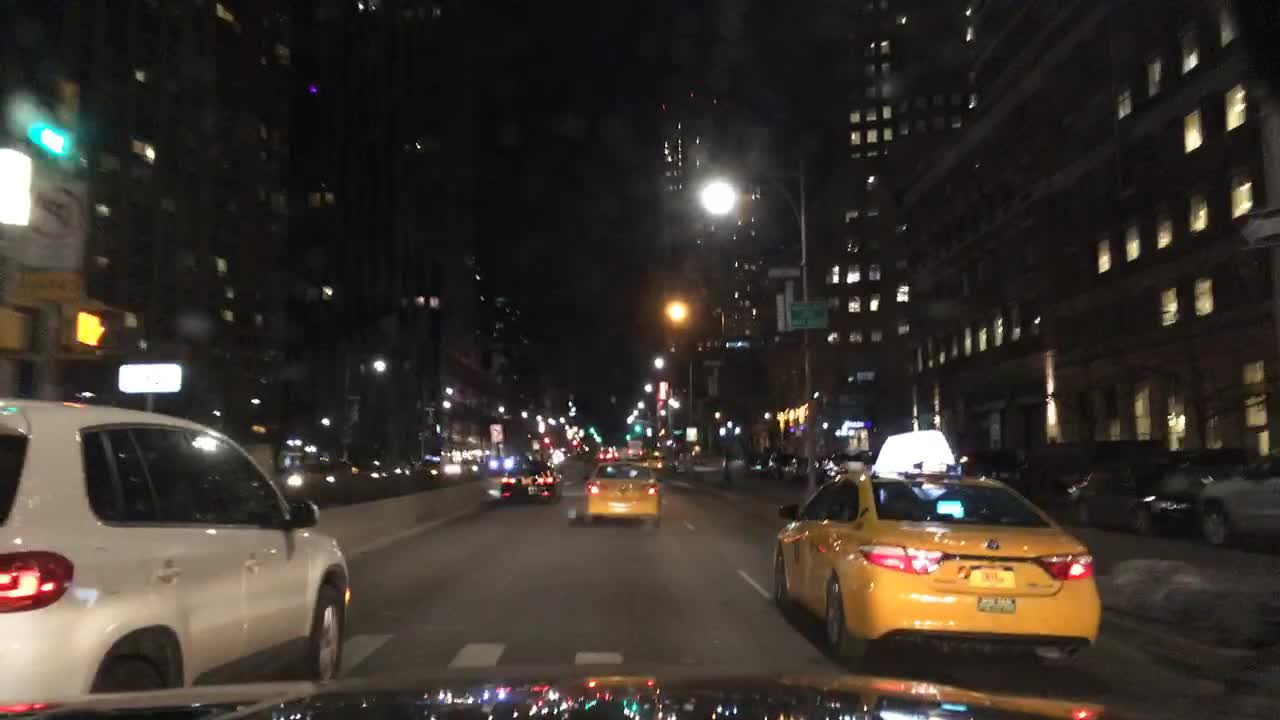car: (0, 394, 351, 705), (773, 428, 1102, 664), (1061, 446, 1247, 535), (1014, 439, 1169, 522), (1144, 450, 1265, 543), (1189, 450, 1279, 545), (579, 460, 662, 524), (958, 447, 1029, 497), (280, 467, 350, 506), (498, 462, 559, 502), (347, 458, 388, 501), (384, 460, 418, 494), (815, 450, 850, 482), (774, 453, 809, 484), (445, 455, 482, 480), (415, 460, 448, 487), (850, 447, 877, 474), (482, 457, 516, 474), (761, 450, 782, 477), (745, 452, 766, 475), (644, 447, 664, 469), (598, 444, 613, 461), (627, 445, 642, 461), (613, 445, 627, 459)
traffic light: (33, 78, 77, 158), (68, 300, 110, 355), (0, 303, 29, 349), (631, 421, 645, 434), (817, 419, 831, 431), (585, 422, 596, 436), (569, 435, 579, 449), (542, 432, 552, 446)
traffic sign: (0, 173, 93, 266), (5, 271, 86, 303), (789, 298, 830, 328), (767, 266, 801, 276), (489, 422, 504, 441), (685, 425, 698, 441), (345, 394, 362, 402), (423, 405, 438, 412)
